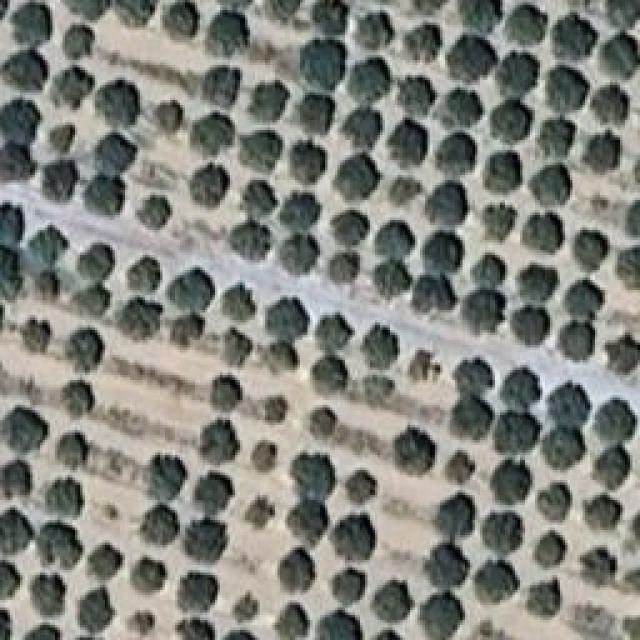Tree: (388, 425, 440, 476), (547, 10, 602, 58), (138, 450, 190, 500), (299, 40, 350, 87), (180, 517, 230, 564), (7, 0, 55, 48), (121, 298, 168, 347), (194, 418, 240, 468), (334, 153, 382, 200), (469, 560, 517, 607), (418, 590, 465, 638), (448, 37, 497, 83), (287, 495, 330, 547), (493, 415, 540, 462), (243, 80, 292, 125), (548, 380, 593, 429), (1, 50, 50, 95), (92, 130, 142, 174), (182, 163, 232, 206), (339, 105, 385, 151), (62, 327, 108, 373), (83, 170, 130, 215), (28, 522, 75, 567), (384, 120, 432, 164), (578, 130, 627, 173), (584, 85, 632, 128), (303, 352, 348, 397), (209, 5, 252, 52), (330, 518, 375, 562), (485, 458, 530, 502), (198, 62, 243, 106), (597, 35, 640, 81), (484, 150, 530, 193), (594, 397, 637, 443), (493, 53, 540, 95), (410, 273, 457, 315), (263, 298, 310, 340), (120, 250, 162, 297), (17, 225, 67, 264), (167, 268, 217, 307), (424, 182, 468, 226), (520, 578, 565, 621), (448, 401, 493, 444), (348, 10, 395, 51), (96, 80, 137, 127), (4, 403, 45, 450), (296, 454, 341, 496), (442, 85, 488, 126), (369, 580, 415, 621), (437, 130, 477, 177), (346, 58, 393, 98), (236, 130, 283, 170), (535, 117, 577, 161), (275, 548, 317, 592), (540, 430, 585, 471), (0, 97, 38, 145), (295, 90, 337, 133), (372, 220, 415, 262), (51, 62, 92, 106), (545, 68, 585, 113), (140, 502, 180, 547), (73, 587, 112, 633), (433, 494, 475, 536), (565, 278, 607, 320), (531, 165, 572, 208), (424, 548, 467, 589), (482, 515, 525, 556), (53, 430, 97, 470), (218, 280, 255, 327), (500, 368, 542, 409), (579, 548, 620, 590), (271, 598, 312, 640), (177, 568, 220, 608), (467, 290, 513, 327), (595, 446, 635, 488), (489, 105, 532, 144), (581, 493, 625, 531), (32, 568, 70, 612), (0, 510, 33, 560), (327, 208, 367, 249), (424, 230, 465, 270), (75, 243, 115, 284), (190, 113, 232, 152), (361, 323, 400, 365), (281, 193, 322, 232), (511, 307, 558, 341), (59, 380, 97, 422), (479, 200, 517, 241), (521, 215, 565, 250), (371, 258, 410, 297), (43, 160, 82, 199), (16, 318, 55, 357), (242, 178, 280, 218), (279, 235, 317, 275), (437, 453, 475, 492), (149, 93, 187, 132), (42, 475, 80, 514), (406, 348, 445, 386), (213, 329, 252, 367), (285, 143, 325, 180), (230, 220, 267, 260), (573, 228, 610, 268), (168, 313, 205, 353), (130, 555, 167, 595), (207, 374, 242, 416), (455, 355, 495, 391), (404, 25, 445, 60), (306, 0, 347, 35), (530, 263, 565, 304), (325, 565, 367, 599), (114, 0, 158, 32), (533, 483, 572, 519), (459, 0, 500, 34), (469, 250, 507, 286), (312, 315, 350, 351), (508, 10, 547, 45), (608, 335, 640, 377), (343, 468, 380, 504), (133, 193, 170, 229), (193, 475, 230, 511), (76, 283, 112, 319), (60, 23, 95, 60), (317, 610, 360, 640), (256, 393, 290, 430), (358, 372, 397, 404), (308, 405, 340, 444), (530, 535, 565, 570), (399, 75, 433, 111), (34, 268, 68, 304), (160, 2, 197, 35), (385, 175, 422, 207), (0, 143, 32, 180), (326, 250, 360, 284), (602, 0, 640, 30), (616, 247, 640, 294), (562, 323, 592, 360), (88, 543, 120, 577), (248, 440, 282, 471), (0, 460, 30, 495), (46, 122, 77, 155), (264, 346, 300, 374), (0, 202, 23, 245), (1, 248, 25, 289), (66, 0, 115, 20), (244, 497, 272, 530), (172, 617, 212, 640), (126, 608, 156, 637), (621, 557, 640, 602), (263, 0, 302, 21), (405, 0, 448, 17), (224, 620, 260, 640), (0, 565, 20, 600), (26, 620, 57, 640), (620, 609, 640, 640), (624, 202, 640, 236), (234, 595, 257, 617)
